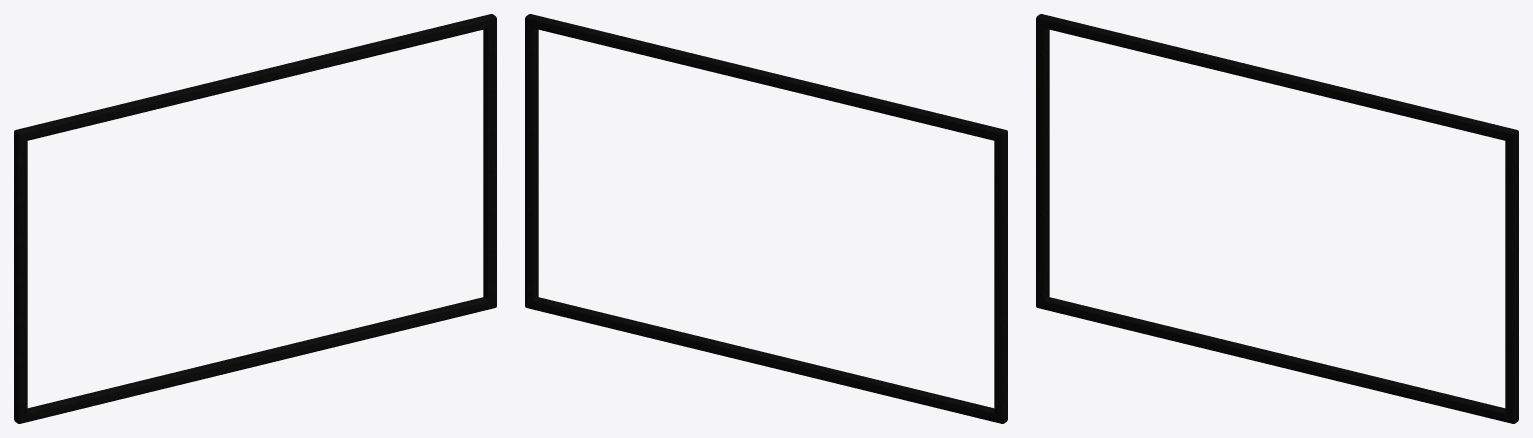
The model's file is screen_frame.glb.
The picture shows the model from 3 angles, left to right: view 1: azimuth 30°, elevation 25°; view 2: azimuth 150°, elevation 25°; view 3: azimuth 330°, elevation 25°; orthographic projection.
Parts seen in each view (by area): view 1: Screen Black Frame geometry; view 2: Screen Black Frame geometry; view 3: Screen Black Frame geometry.
Boxes of the visible parts, left/top/right/bottom form: Screen Black Frame geometry: left=14, top=14, right=496, bottom=423; Screen Black Frame geometry: left=525, top=14, right=1007, bottom=423; Screen Black Frame geometry: left=1036, top=14, right=1518, bottom=423.
Size of the model in its own units: 6.26 by 3.64 by 0.12.
Materials: 1 (1 with a texture image).
